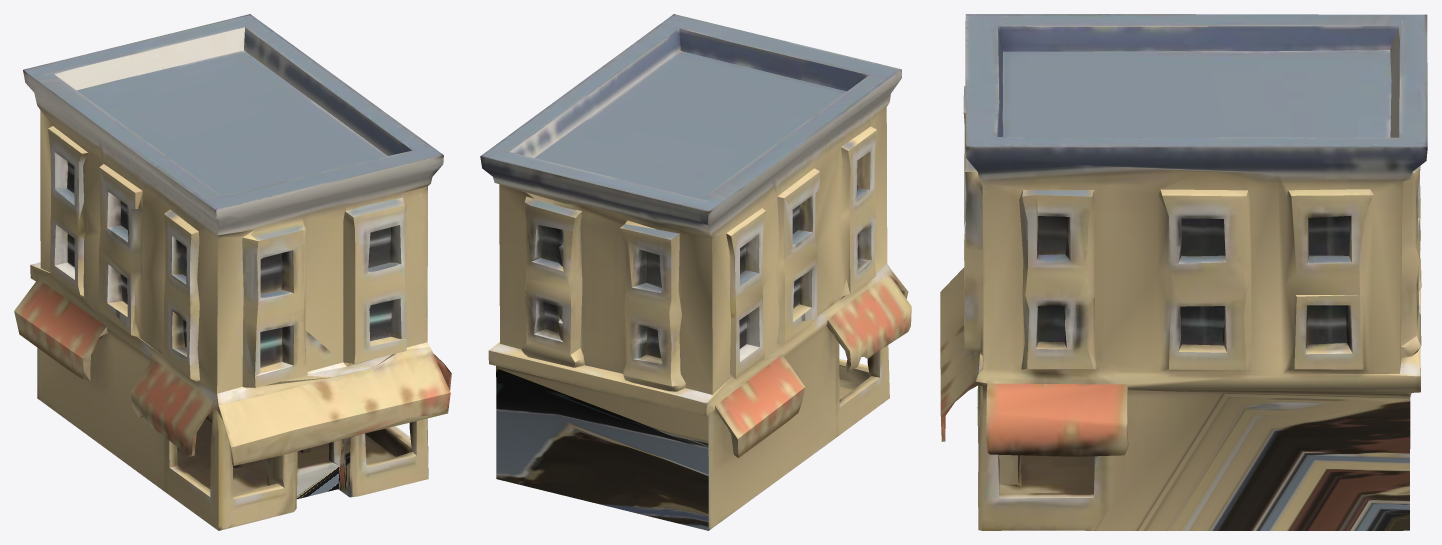
File: northbeach-corner.glb
The picture shows the model from 3 angles, left to right: view 1: azimuth 30°, elevation 25°; view 2: azimuth 150°, elevation 25°; view 3: azimuth 270°, elevation 25°; orthographic projection. The views are drawn at different scales.
Visible parts, largest first — view 1: northbeach-corner; view 2: northbeach-corner; view 3: northbeach-corner.
Boxes of the visible parts, box(x1,y1,x2,y2) form: northbeach-corner: box(14, 14, 451, 530); northbeach-corner: box(480, 14, 911, 530); northbeach-corner: box(940, 14, 1427, 530).
Size of the model in its own units: 4.4 by 5.2 by 5.9.
1 material, 1 textured.
